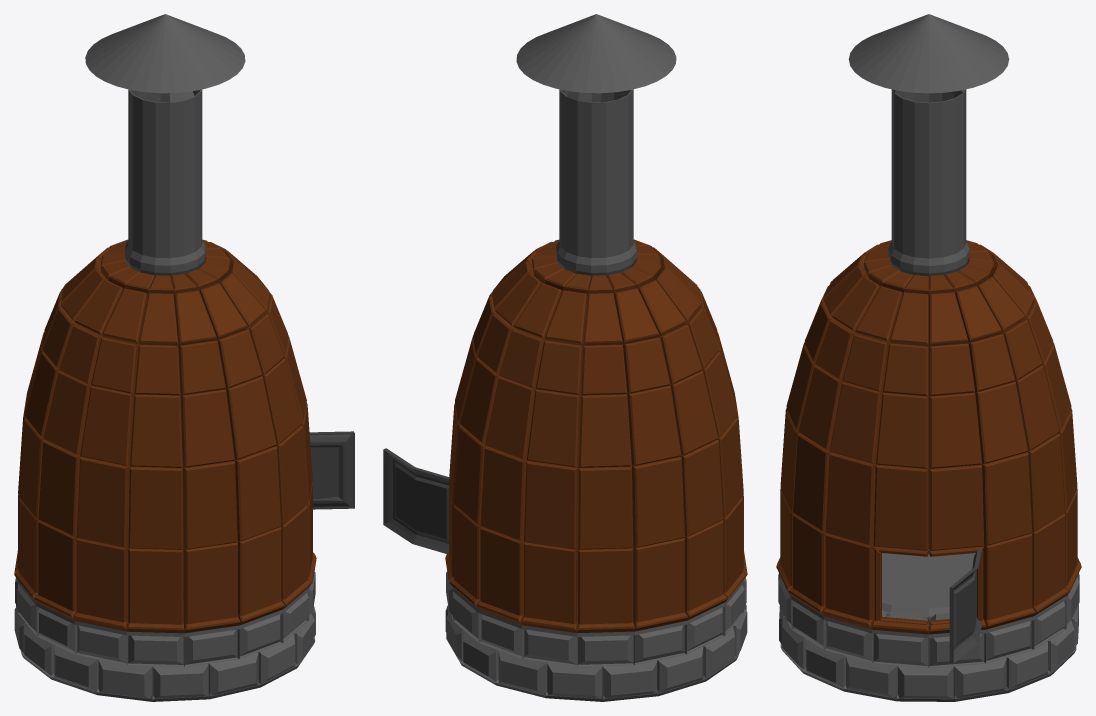
The model's file is furnace 1.fbx.
3 renders of one model, left to right at view 1: azimuth 30°, elevation 25°; view 2: azimuth 150°, elevation 25°; view 3: azimuth 270°, elevation 25°, orthographic.
Visible parts, largest first — view 1: furnace; view 2: furnace; view 3: furnace.
Part boxes in pixels (x1=…): furnace: x1=14, y1=14, x2=354, y2=701; furnace: x1=383, y1=14, x2=747, y2=701; furnace: x1=776, y1=14, x2=1081, y2=701.
Size of the model in its own units: 258 by 465 by 205.
